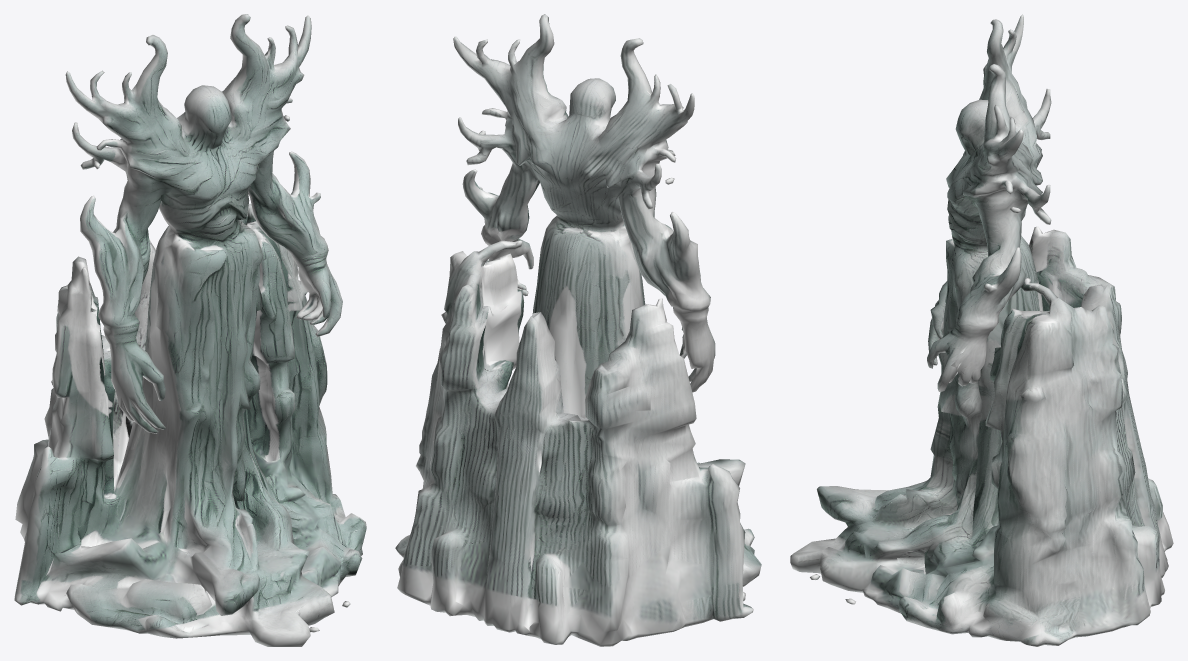
File: entropic-colossus.glb
The picture shows the model from 3 angles, left to right: view 1: azimuth 30°, elevation 25°; view 2: azimuth 150°, elevation 25°; view 3: azimuth 270°, elevation 25°; orthographic projection. The views are drawn at different scales.
Size of the model in its own units: 1.23 by 1.9 by 1.25.
Materials: 1 (1 with a texture image).
